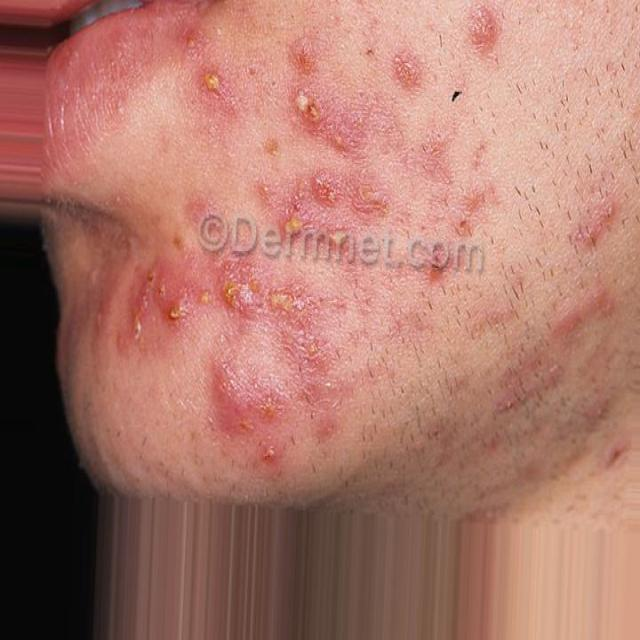acne: (266, 272, 348, 428), (54, 262, 128, 408), (200, 329, 291, 437), (114, 253, 204, 353), (474, 326, 562, 426), (346, 269, 422, 363), (411, 208, 480, 300), (536, 279, 622, 347), (232, 123, 284, 232), (196, 246, 264, 324), (574, 174, 624, 273), (446, 4, 516, 72), (412, 118, 474, 192), (372, 41, 436, 112), (348, 164, 396, 238), (272, 171, 310, 261), (272, 22, 331, 78), (324, 108, 374, 158), (164, 4, 204, 62), (306, 158, 348, 208), (286, 84, 322, 128), (193, 64, 227, 105)
